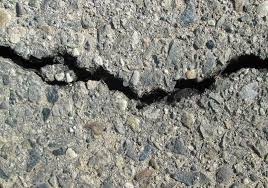pothole: (1, 42, 268, 118)
